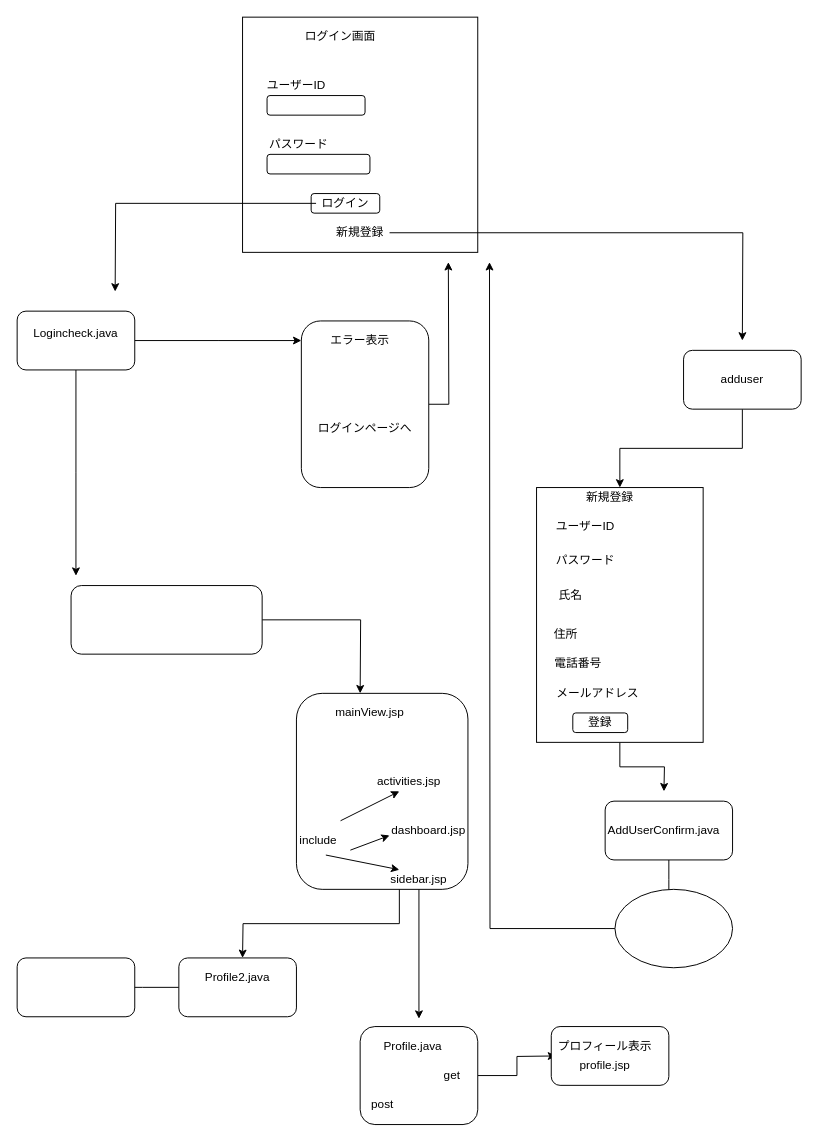
This 818x1142 diagram has some shape labels left out. The shapes that lost their labels are listed below. From the top down, each one's centre as x and y in pixels, then its label:
(166,619): Mainpage.java
(673,928): DBへ保存
(75,987): change.
